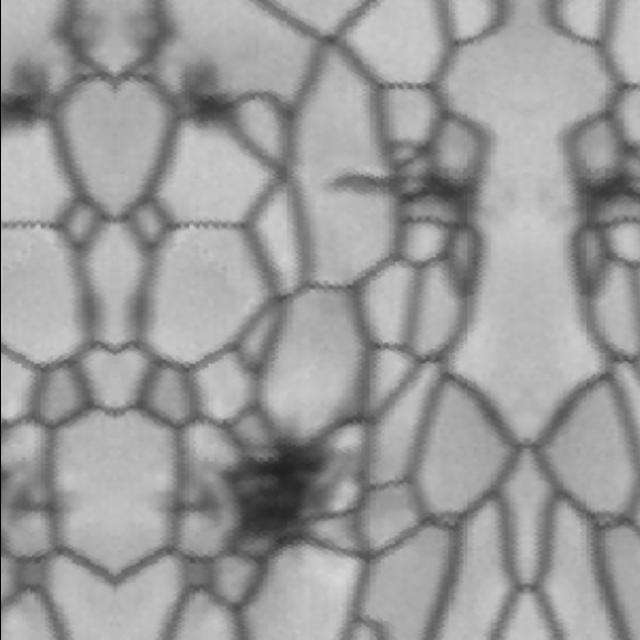good_void: (217, 430, 360, 564), (326, 150, 468, 218), (170, 57, 277, 136), (0, 57, 59, 136), (586, 151, 640, 218), (166, 484, 224, 531), (5, 484, 63, 531)
